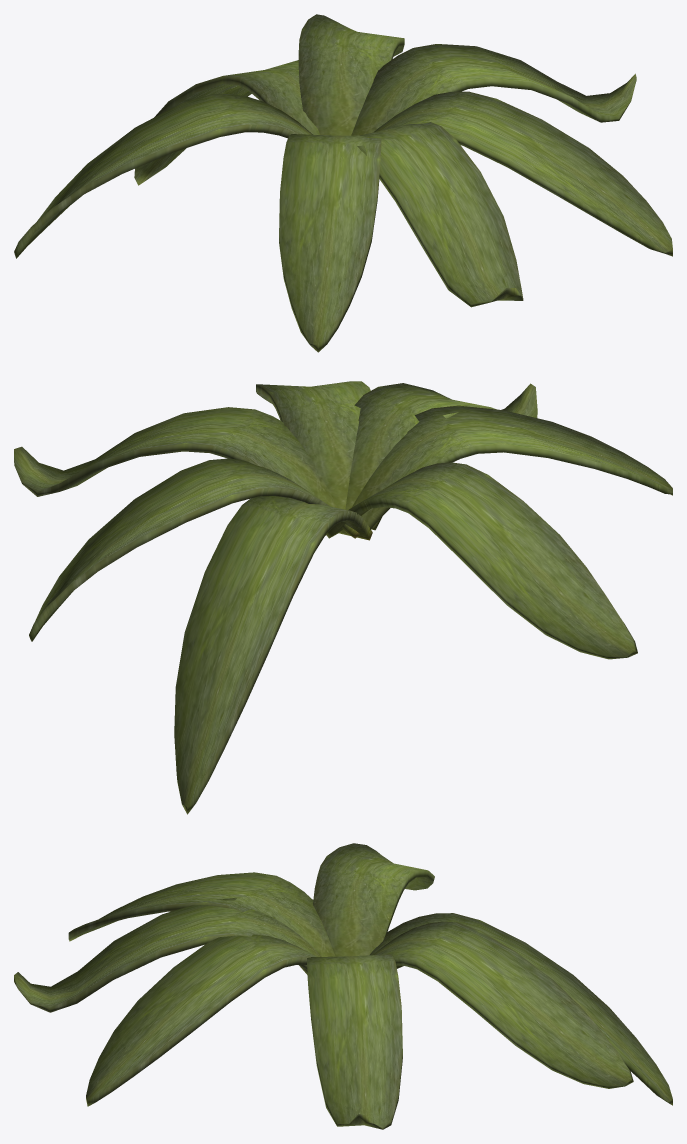
Rendered from calyx7_sb2.dae.
The picture shows the model from 3 angles, top to bottom: view 1: azimuth 30°, elevation 25°; view 2: azimuth 150°, elevation 25°; view 3: azimuth 270°, elevation 25°; orthographic projection. The views are drawn at different scales.
Visible parts, largest first — view 1: calyx6_001, calyx7_001, calyx6, calyx7, calyx8, calyx8_001, calyx9; view 2: calyx9, calyx8, calyx6_001, calyx7, calyx8_001, calyx6, calyx7_001; view 3: calyx8_001, calyx7, calyx6, calyx7_001, calyx8, calyx6_001, calyx9.
Part boxes in pixels (x1,y1,x2,y2): calyx6_001: (279, 134, 381, 352); calyx7_001: (357, 122, 523, 307); calyx6: (374, 91, 672, 256); calyx7: (351, 44, 636, 135); calyx8: (14, 94, 312, 258); calyx8_001: (298, 14, 404, 135); calyx9: (134, 60, 319, 185); calyx9: (174, 496, 372, 814); calyx8: (326, 462, 637, 659); calyx6_001: (352, 405, 672, 536); calyx7: (14, 407, 337, 535); calyx8_001: (29, 458, 359, 641); calyx6: (256, 381, 370, 509); calyx7_001: (345, 383, 537, 530); calyx8_001: (373, 921, 633, 1088); calyx7: (307, 954, 402, 1129); calyx6: (86, 934, 317, 1106); calyx7_001: (14, 898, 321, 1012); calyx8: (313, 843, 434, 956); calyx6_001: (68, 872, 335, 974); calyx9: (369, 913, 672, 1105).
Bounding box in the file's own units: 0.1328 × 0.1334 × 0.0455.
7 materials, 7 textured.
